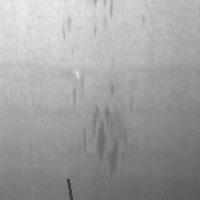inclusion: (85, 81, 137, 180), (66, 177, 75, 200)
